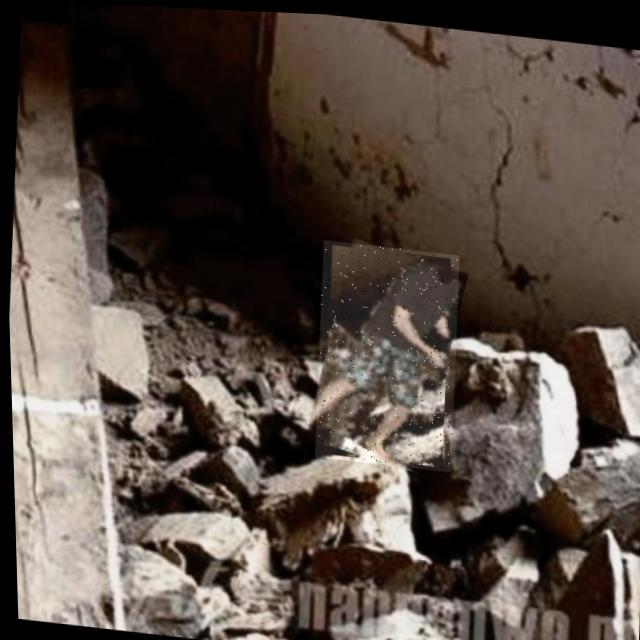Person in Rubble: (307, 236, 463, 468)
